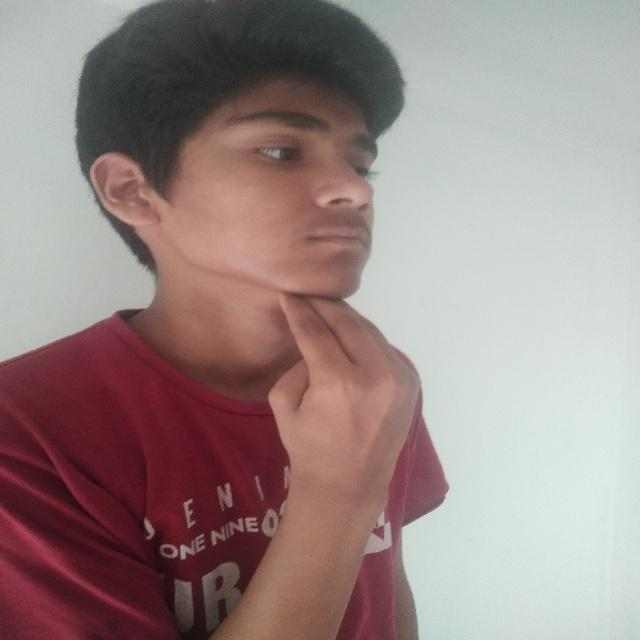Chin Flick: (75, 4, 444, 491)
